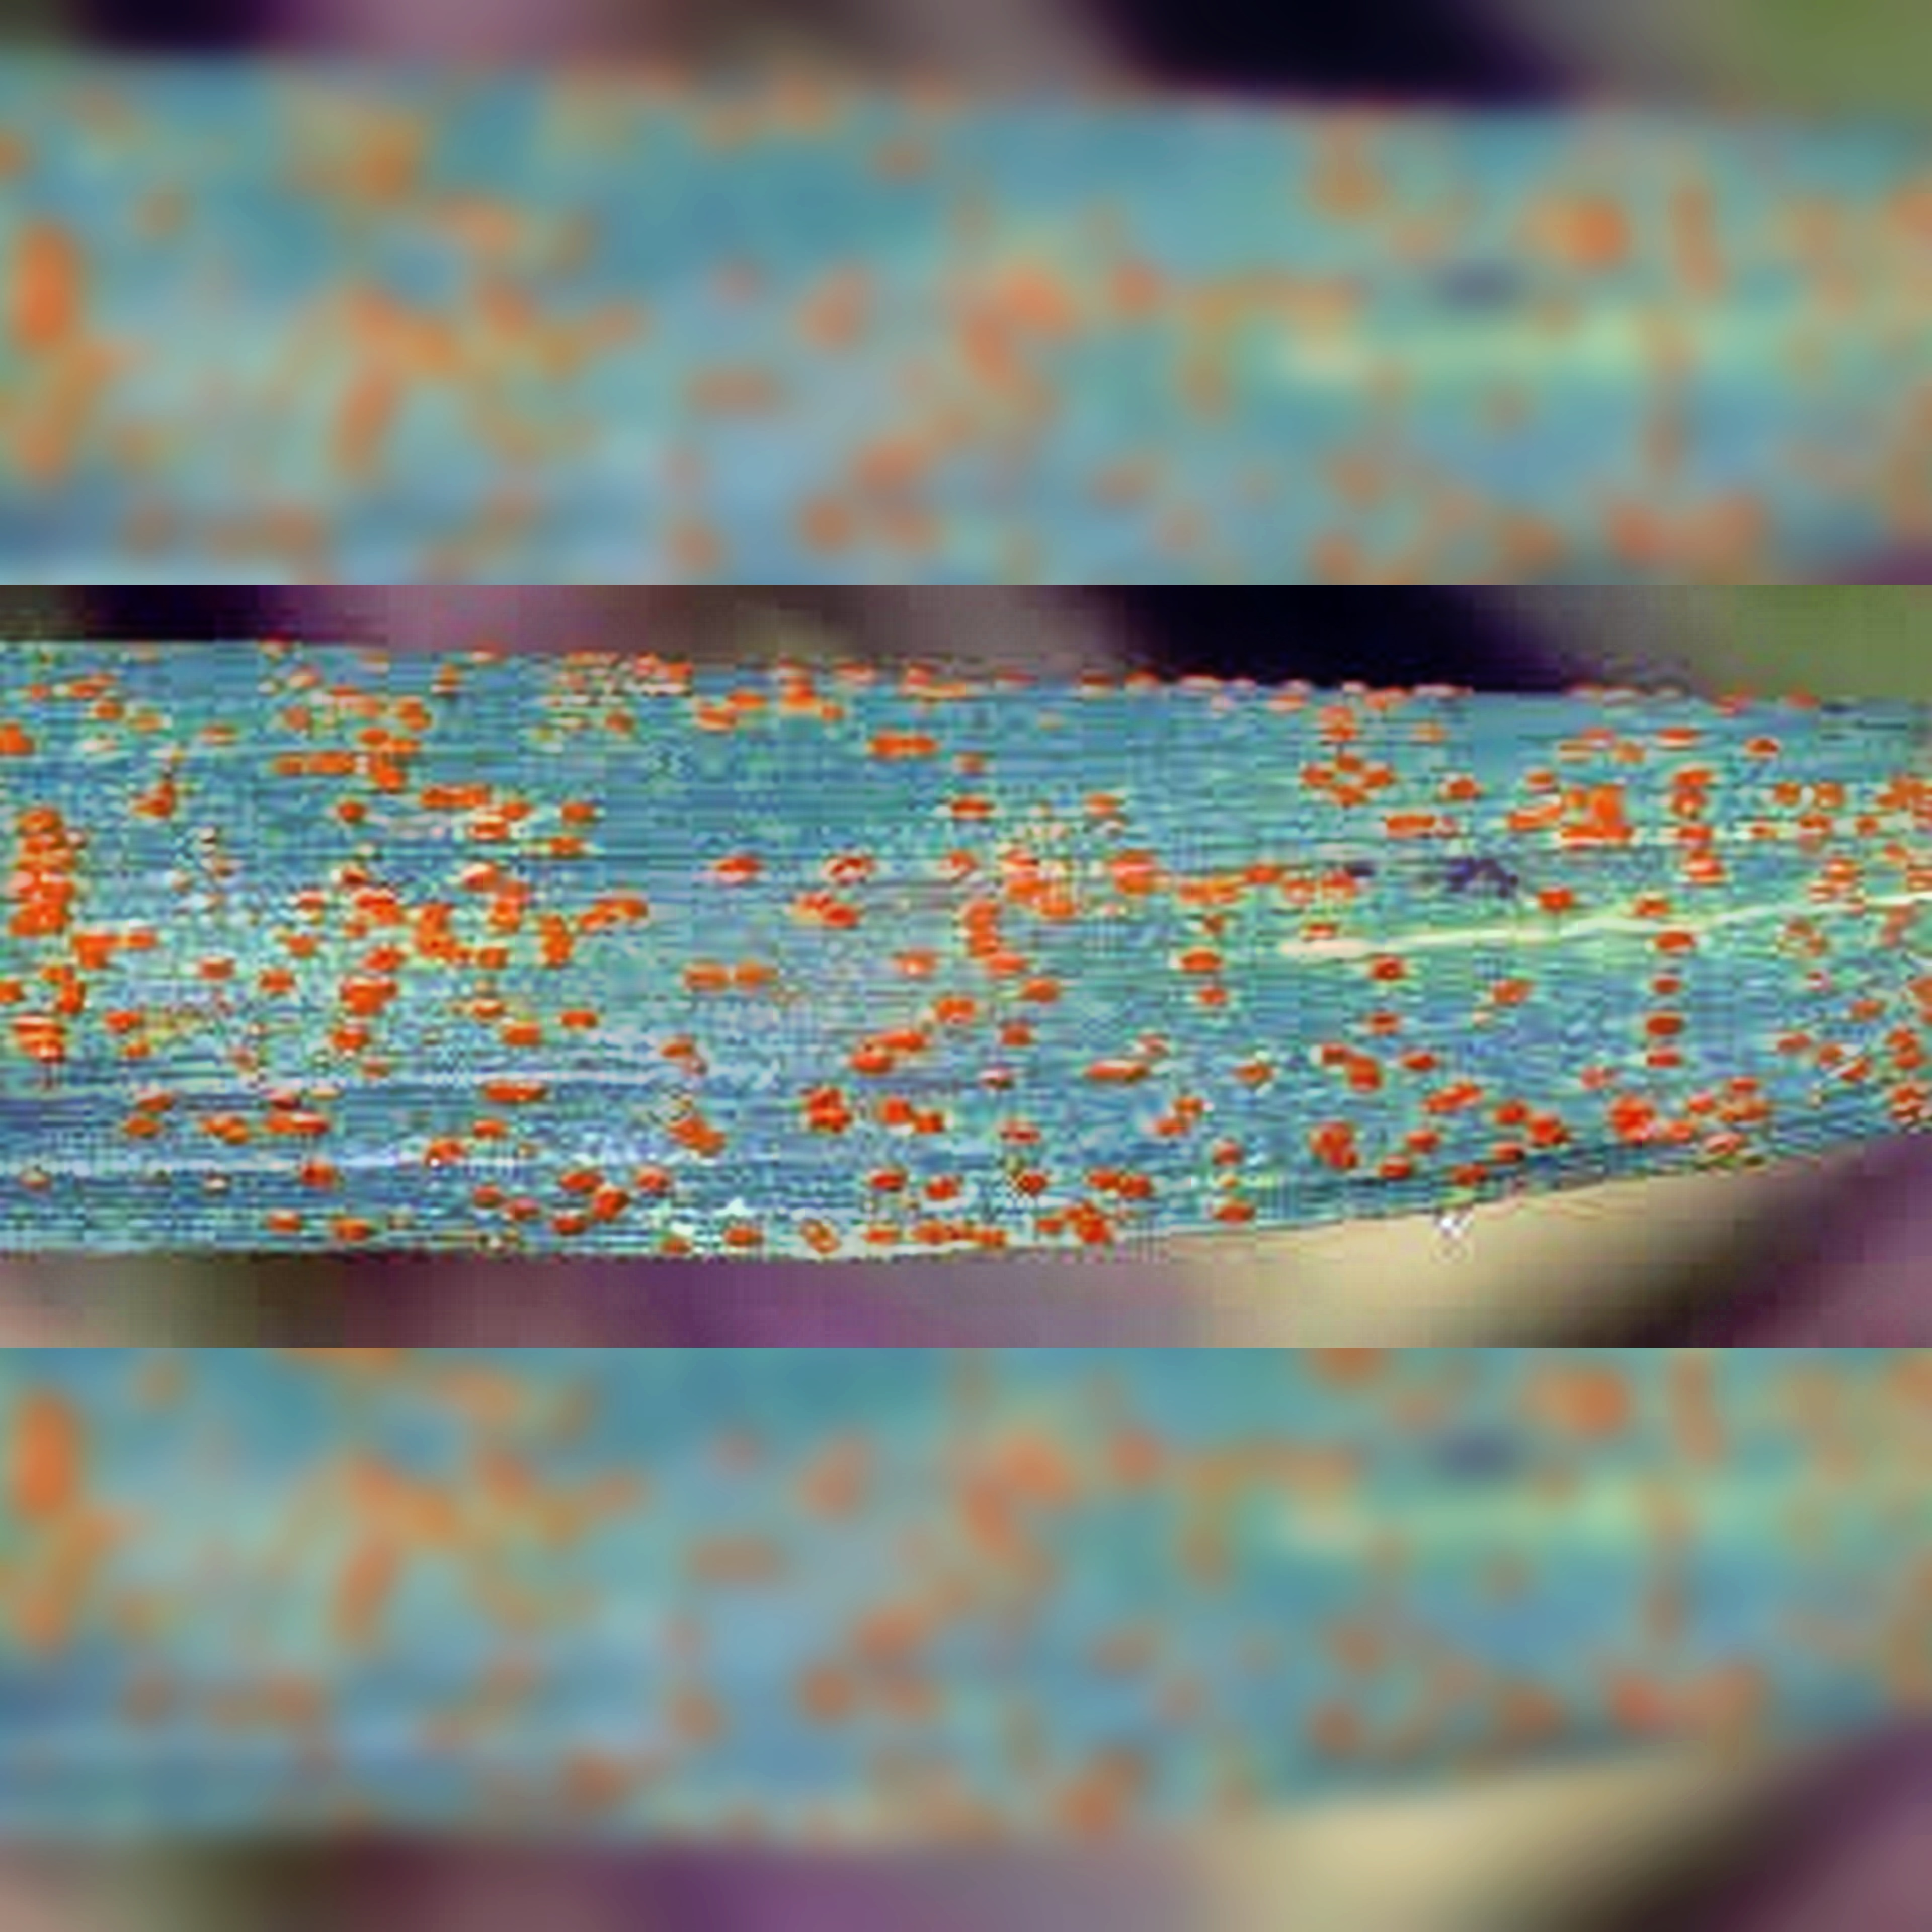Leaf Rust: (78, 621, 1891, 1226)
